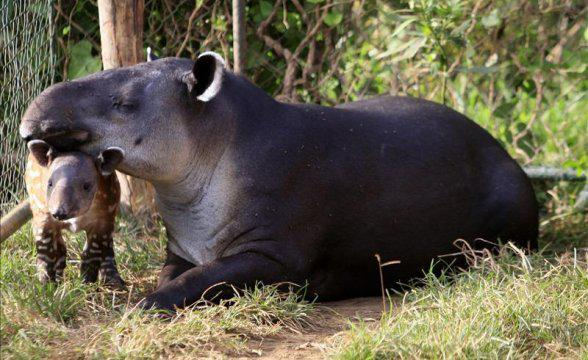Anta: (20, 52, 546, 316), (18, 141, 138, 302)
